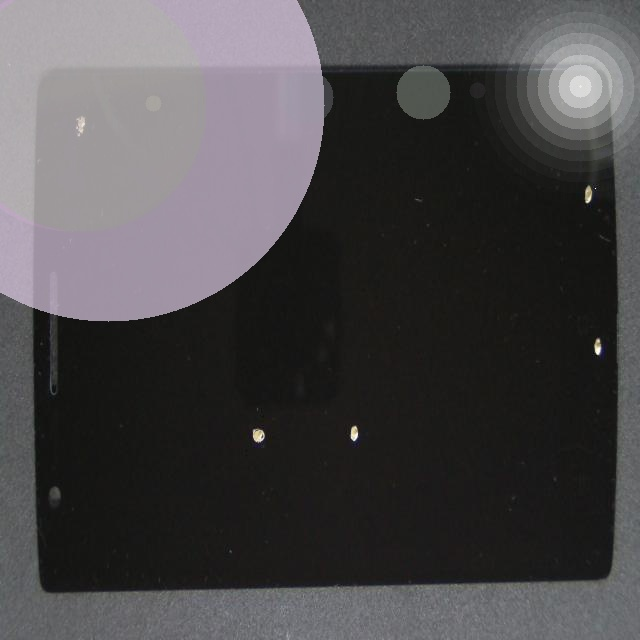stain: (178, 235, 534, 640), (275, 170, 640, 533), (103, 218, 375, 640), (277, 111, 640, 332), (27, 59, 98, 209)
